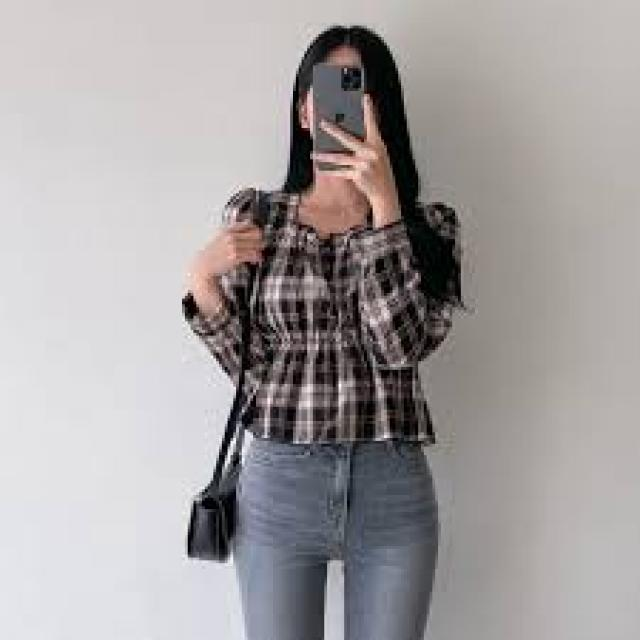plaid: (189, 183, 474, 446)
